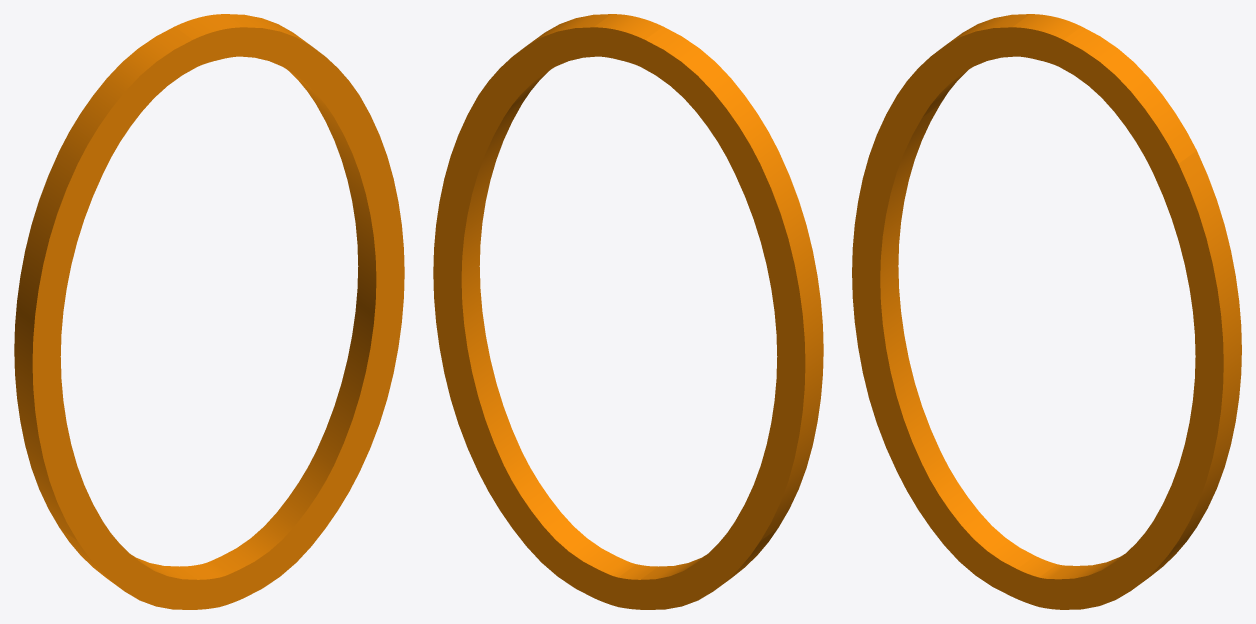
The picture shows the model from 3 angles, left to right: view 1: azimuth 30°, elevation 25°; view 2: azimuth 150°, elevation 25°; view 3: azimuth 330°, elevation 25°; orthographic projection.
Visible parts, largest first — view 1: O; view 2: O; view 3: O.
Part boxes in pixels (box(x1,y1,x2,y2)): O: box(14, 14, 404, 609); O: box(433, 14, 823, 609); O: box(852, 14, 1241, 609).
Bounding box in the file's own units: 58.89 × 87.24 × 5.
